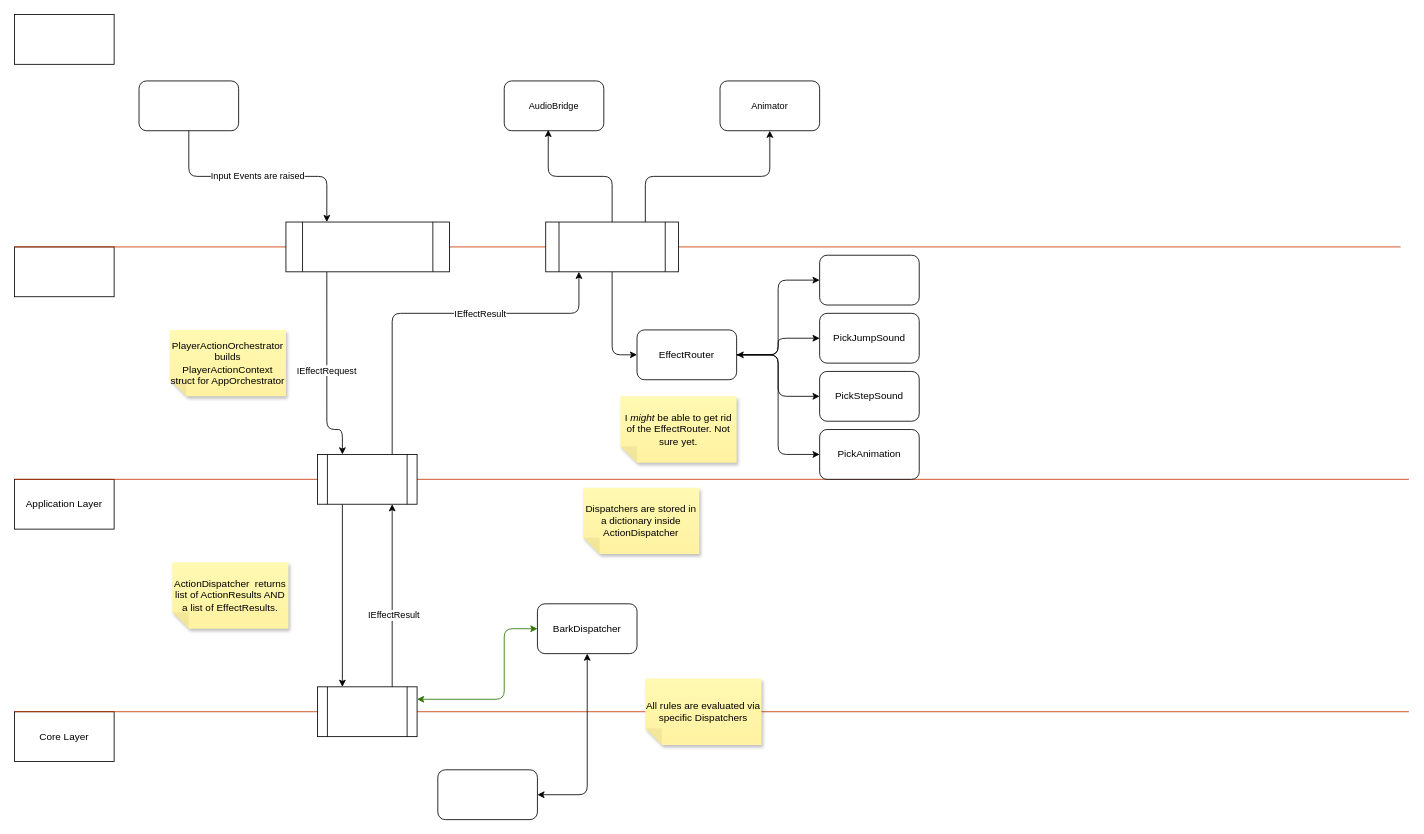
This 1424x834 diagram has some shape labels left out. Here are the shapes that lost their labels. From the top down, the centre of each, then its label:
At point (64, 39): "Unity Layer".
At point (188, 105): "Input Reader".
At point (612, 246): "EffectOrchestrator".
At point (64, 271): "Feature Layer".
At point (869, 279): "PickBark".
At point (367, 479): "AppOrchestrator".
At point (367, 711): "ActionDispatcher".
At point (487, 794): "BarkRules".
